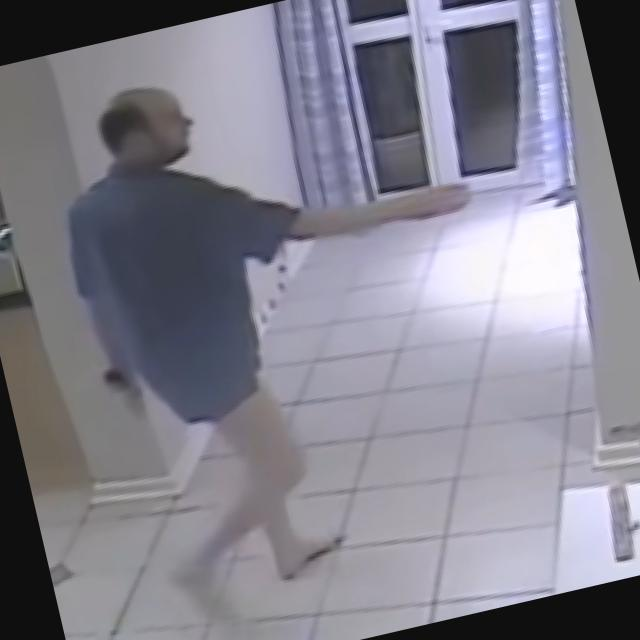person: (30, 17, 553, 636)
